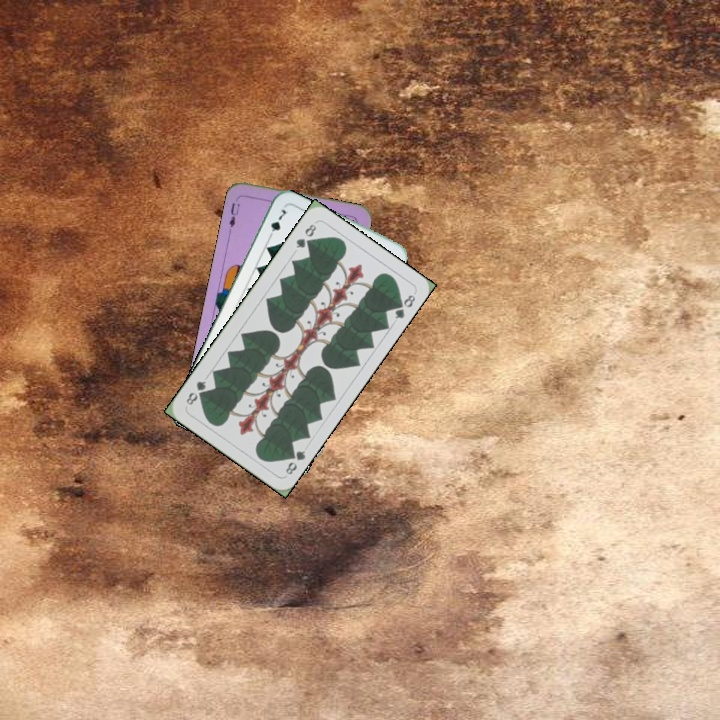EU: (225, 199, 243, 234)
G7: (264, 205, 289, 242)
G8: (281, 445, 308, 477), (292, 220, 319, 251)
